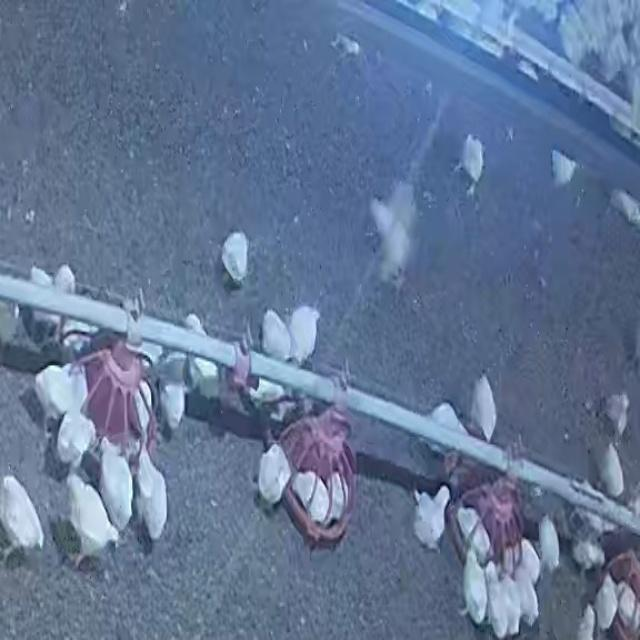chicken: (63, 469, 120, 564), (0, 474, 46, 564), (97, 441, 135, 531), (134, 444, 169, 540), (34, 361, 86, 425), (411, 486, 452, 552), (55, 408, 97, 470), (256, 441, 294, 508), (157, 351, 188, 433), (460, 544, 489, 630), (468, 373, 498, 443), (511, 565, 544, 628), (455, 504, 490, 563), (485, 570, 515, 638), (292, 300, 322, 362), (594, 441, 625, 498), (219, 228, 250, 280), (429, 402, 468, 441), (291, 470, 322, 518), (538, 515, 562, 575), (592, 577, 618, 631), (601, 392, 630, 439), (514, 538, 541, 588), (608, 188, 640, 230), (459, 133, 485, 183), (263, 310, 289, 358), (131, 384, 153, 439), (326, 472, 348, 522), (616, 582, 638, 628), (551, 151, 578, 188)
